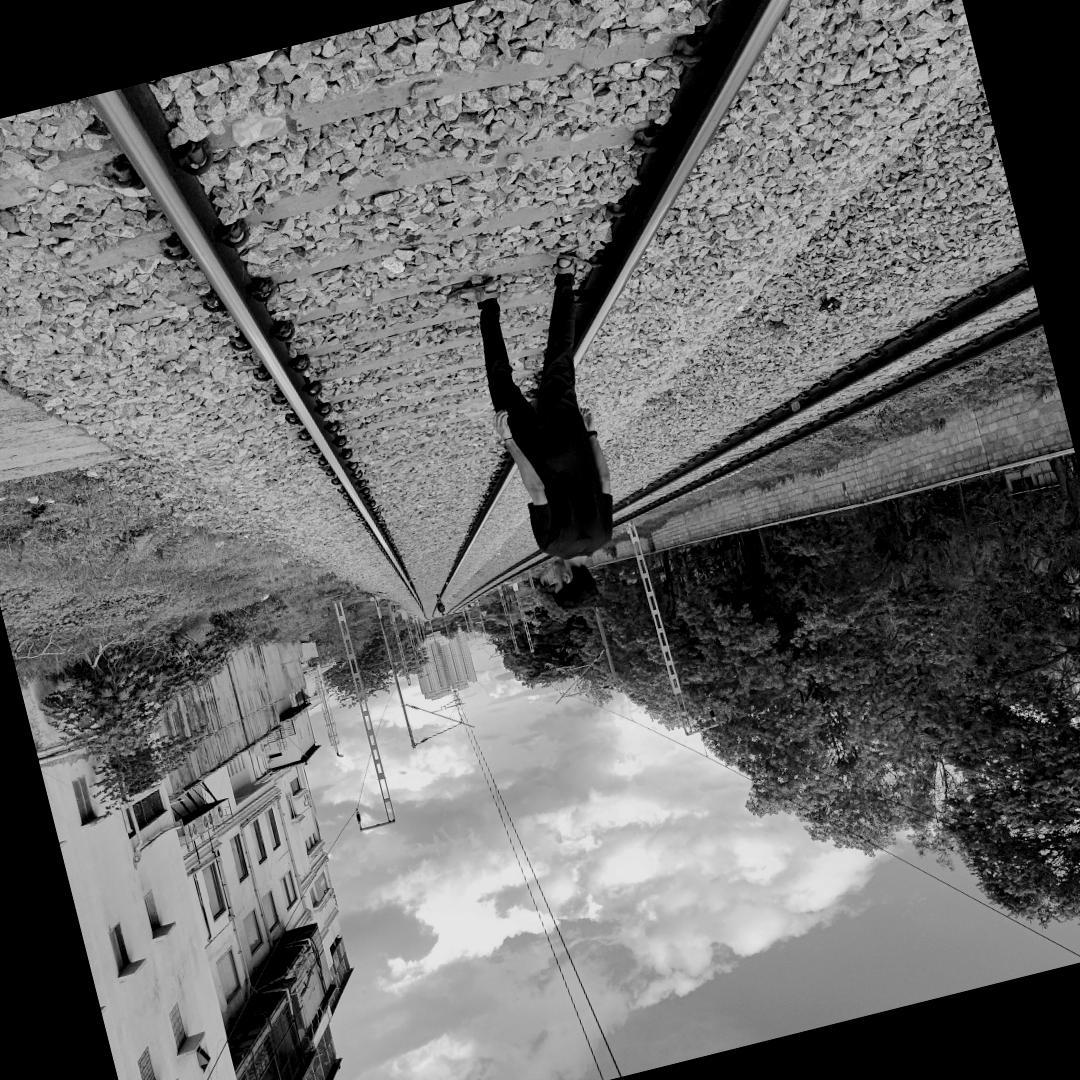standing: (436, 238, 687, 636)
